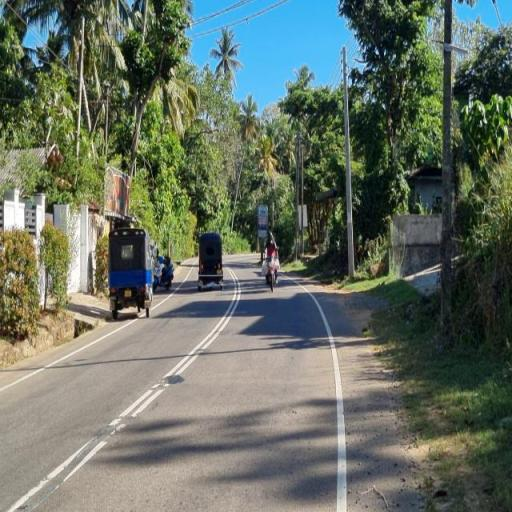double_white_line: (109, 267, 240, 432)
